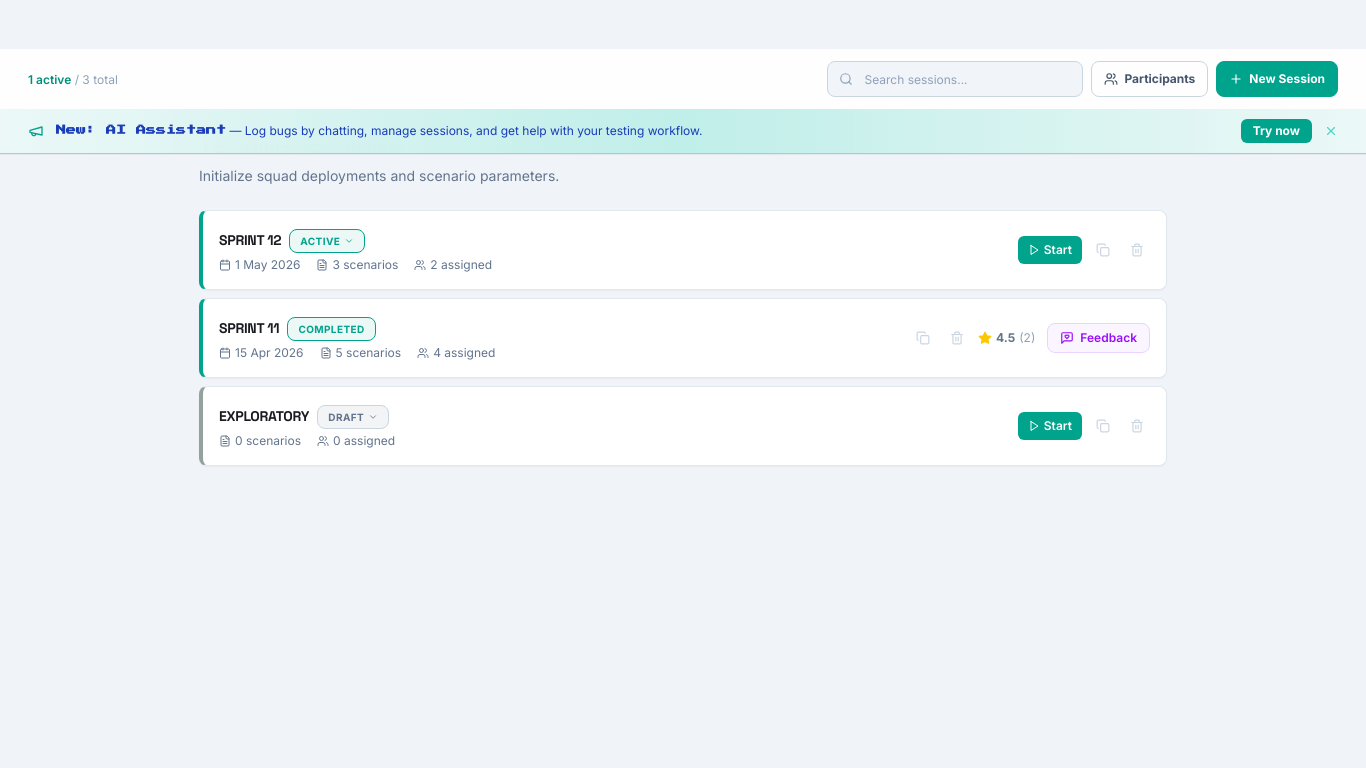
Scenario: SessionsListPage › delete button opens confirm modal requiring session name
Click the button named "Delete" in the row of "1 May 2026": [1137, 250] box top-left (1124, 237), bottom-right (1150, 263)
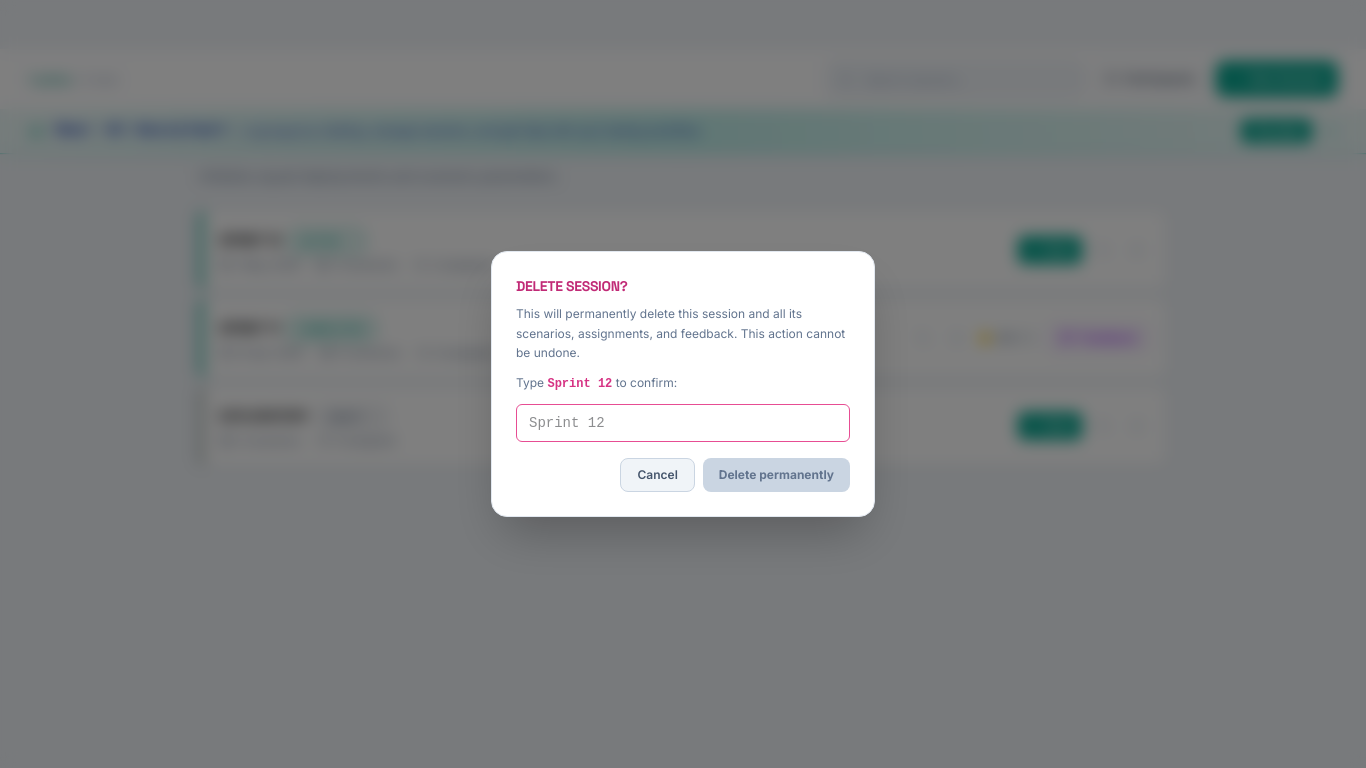
Expected: the heading "Delete session?" is shown, top-left (516, 277), bottom-right (628, 295)
Expected: the button "Delete permanently" is disabled, top-left (703, 458), bottom-right (850, 492)
